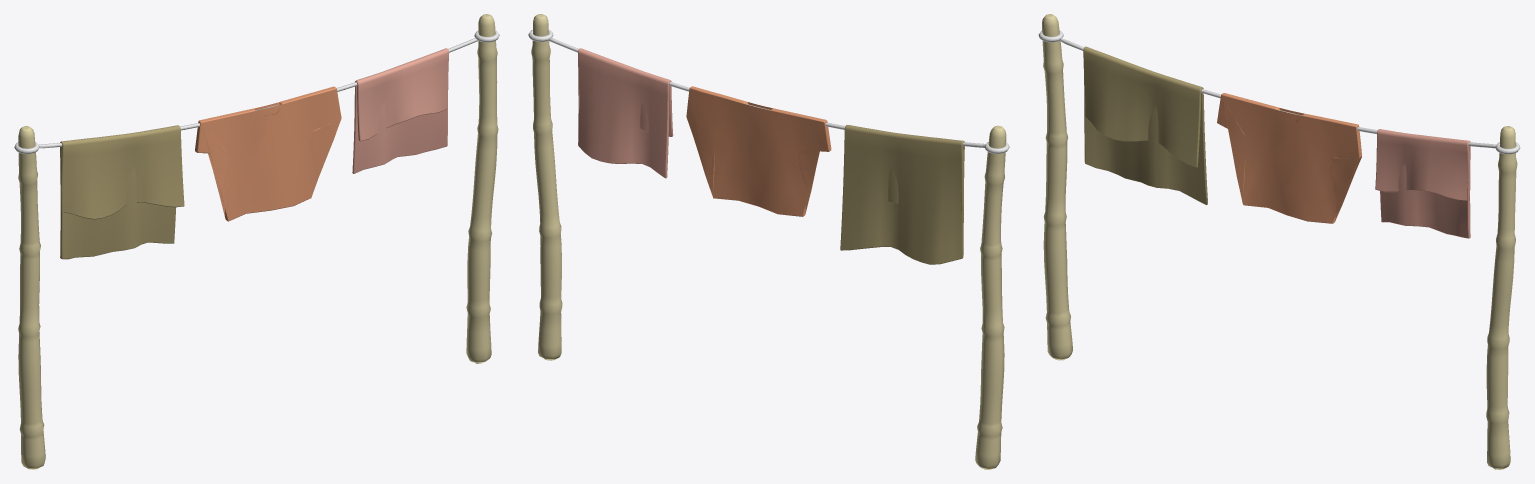
Rendered from prop_laundry_line_3.glb.
3 views of the same model, side by side, from view 1: azimuth 30°, elevation 25°; view 2: azimuth 150°, elevation 25°; view 3: azimuth 330°, elevation 25° (orthographic).
Visible parts, largest first — view 1: laundry_line_3_cloth, laundry_line_3_bamboo, laundry_line_3_rope; view 2: laundry_line_3_cloth, laundry_line_3_bamboo, laundry_line_3_rope; view 3: laundry_line_3_cloth, laundry_line_3_bamboo, laundry_line_3_rope.
Part boxes in pixels (x1=…): laundry_line_3_cloth: x1=60, y1=48, x2=449, y2=259; laundry_line_3_bamboo: x1=18, y1=14, x2=498, y2=469; laundry_line_3_rope: x1=14, y1=30, x2=499, y2=153; laundry_line_3_cloth: x1=578, y1=48, x2=964, y2=264; laundry_line_3_bamboo: x1=531, y1=14, x2=1006, y2=469; laundry_line_3_rope: x1=528, y1=30, x2=1009, y2=153; laundry_line_3_cloth: x1=1083, y1=46, x2=1470, y2=238; laundry_line_3_bamboo: x1=1042, y1=14, x2=1517, y2=469; laundry_line_3_rope: x1=1038, y1=30, x2=1520, y2=154.
Bounding box in the file's own units: 3.54 × 2.42 × 0.1988.
